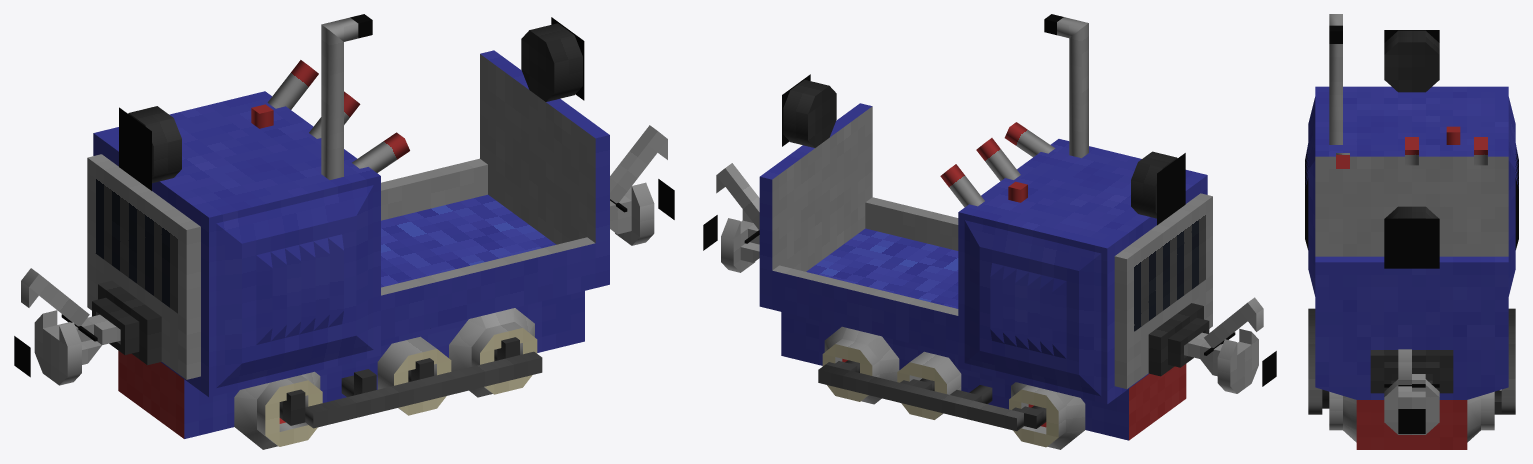
The model's file is mld6.obj.
3 renders of one model, left to right at view 1: azimuth 30°, elevation 25°; view 2: azimuth 150°, elevation 25°; view 3: azimuth 270°, elevation 25°, orthographic. The views are drawn at different scales.
Visible parts, largest first — view 1: FRAME.001, FRAME.002, FRAME, SEAT_1, COUPLER_ENGAGED_FRONT_1_TOGGLE_LABEL_Uncouple, SIDE_ROD_LEFT, WHEEL_DRIVER_1, WHEEL_DRIVER_4, FRAME.004, FRAME.exhaust, WHEEL_DRIVER_3, COUPLER_ENGAGED_REAR_2_TOGGLE_LABEL_Uncouple (+7 smaller); view 2: FRAME.001, FRAME.002, FRAME, SEAT_1, COUPLER_ENGAGED_FRONT_1_TOGGLE_LABEL_Uncouple, SIDE_ROD_RIGHT, WHEEL_DRIVER_1, WHEEL_DRIVER_4, FRAME.004, FRAME.exhaust, WHEEL_DRIVER_3, COUPLER_ENGAGED_REAR_2_TOGGLE_LABEL_Uncouple (+7 smaller); view 3: FRAME.001, FRAME.002, COUPLER_ENGAGED_REAR_2_TOGGLE_LABEL_Uncouple, FRAME, FRAME.003, HEADLIGHT_2_0xFFF0E1_LCG_REVERSERBACKWARD, WHEEL_DRIVER_4, FRAME.exhaust, SIDE_ROD_RIGHT, SIDE_ROD_LEFT, FRAME.004, COUPLED_REAR_2 (+5 smaller).
Part boxes in pixels (x1,y1,x2,y2): FRAME.001: (87,91,380,397); FRAME.002: (381,50,609,340); FRAME: (118,291,584,438); SEAT_1: (381,194,556,287); COUPLER_ENGAGED_FRONT_1_TOGGLE_LABEL_Uncouple: (14,280,161,385); SIDE_ROD_LEFT: (305,351,542,428); WHEEL_DRIVER_1: (234,371,322,449); WHEEL_DRIVER_4: (449,308,537,397); FRAME.004: (521,23,582,101); FRAME.exhaust: (321,17,358,179); WHEEL_DRIVER_3: (377,336,451,415); COUPLER_ENGAGED_REAR_2_TOGGLE_LABEL_Uncouple: (610,179,674,245); FRAME.001: (958,139,1212,404); FRAME.002: (759,103,958,354); FRAME: (781,312,1186,440); SEAT_1: (806,228,958,308); COUPLER_ENGAGED_FRONT_1_TOGGLE_LABEL_Uncouple: (1148,303,1276,393); SIDE_ROD_RIGHT: (818,364,1023,431); WHEEL_DRIVER_1: (1009,382,1085,449); WHEEL_DRIVER_4: (822,326,899,404); FRAME.004: (783,80,836,147); FRAME.exhaust: (1057,17,1088,158); WHEEL_DRIVER_3: (897,351,961,419); COUPLER_ENGAGED_REAR_2_TOGGLE_LABEL_Uncouple: (703,209,759,272); FRAME.001: (1305,86,1518,296); FRAME.002: (1315,256,1508,399); COUPLER_ENGAGED_REAR_2_TOGGLE_LABEL_Uncouple: (1370,350,1453,434); FRAME: (1356,400,1467,449); FRAME.003: (1384,30,1439,92); HEADLIGHT_2_0xFFF0E1_LCG_REVERSERBACKWARD: (1384,218,1439,268); WHEEL_DRIVER_4: (1322,389,1501,442); FRAME.exhaust: (1329,14,1342,144); SIDE_ROD_RIGHT: (1501,308,1515,414); SIDE_ROD_LEFT: (1308,308,1322,414); FRAME.004: (1385,206,1438,218); COUPLED_REAR_2: (1398,349,1411,384).
Bounding box in the file's own units: 2.81 × 1.75 × 0.9688.
5 materials, 5 textured.
